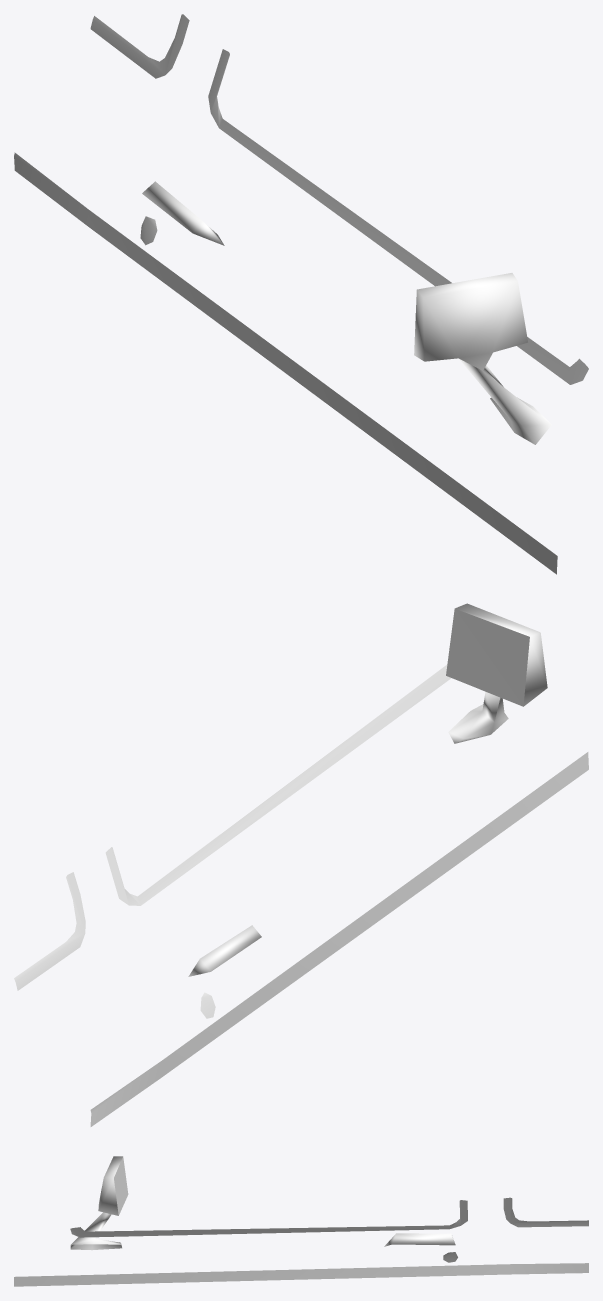
3 renders of one model, top to bottom at view 1: azimuth 30°, elevation 25°; view 2: azimuth 150°, elevation 25°; view 3: azimuth 270°, elevation 25°, orthographic. The views are drawn at different scales.
Bounding box in the file's own units: 0.1472 × 0.2439 × 1.05.
Materials: 1 (1 with a texture image).
